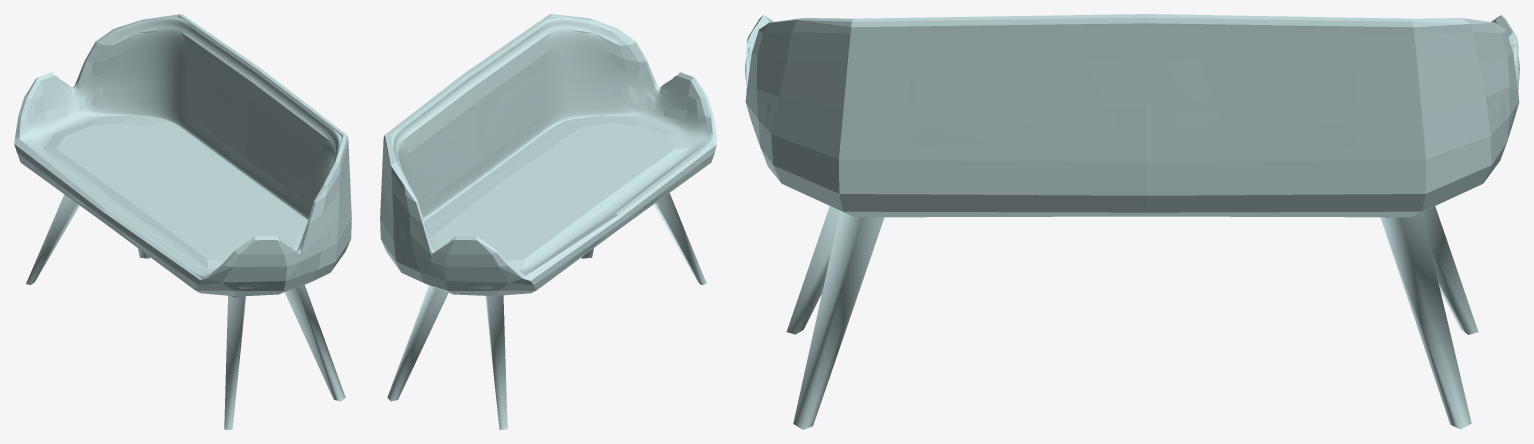
The model's file is bench.fbx.
3 views of the same model, side by side, from view 1: azimuth 30°, elevation 25°; view 2: azimuth 150°, elevation 25°; view 3: azimuth 270°, elevation 25° (orthographic). The views are drawn at different scales.
Parts seen in each view (by area): view 1: 2p-bench-low, 2p-bench-high; view 2: 2p-bench-low, 2p-bench-high; view 3: 2p-bench-low, 2p-bench-high.
Boxes of the visible parts, <box> form: 2p-bench-low: <box>14,14,351,429</box>; 2p-bench-high: <box>17,17,341,298</box>; 2p-bench-low: <box>380,14,716,429</box>; 2p-bench-high: <box>390,17,714,296</box>; 2p-bench-low: <box>745,14,1519,429</box>; 2p-bench-high: <box>748,29,1516,217</box>.
Bounding box in the file's own units: 63.08 × 93.39 × 154.
